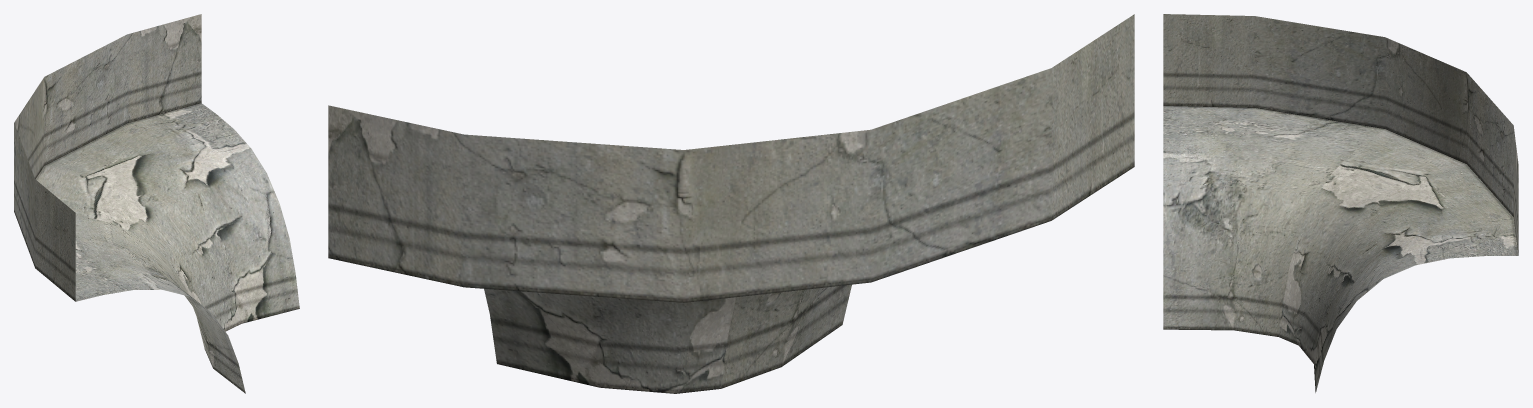
File: urban_damaged_deco_corner_ceiling.dae
The picture shows the model from 3 angles, left to right: view 1: azimuth 30°, elevation 25°; view 2: azimuth 150°, elevation 25°; view 3: azimuth 270°, elevation 25°; orthographic projection. The views are drawn at different scales.
Parts seen in each view (by area): view 1: polySurface727; view 2: polySurface727; view 3: polySurface727.
Part boxes in pixels (box(x1,y1,x2,y2)): polySurface727: box(14, 14, 299, 393); polySurface727: box(328, 14, 1134, 393); polySurface727: box(1163, 14, 1518, 392).
Size of the model in its own units: 1.75 by 1.25 by 1.75.
